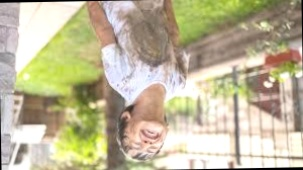earth: (130, 10, 168, 63), (177, 59, 186, 79)
